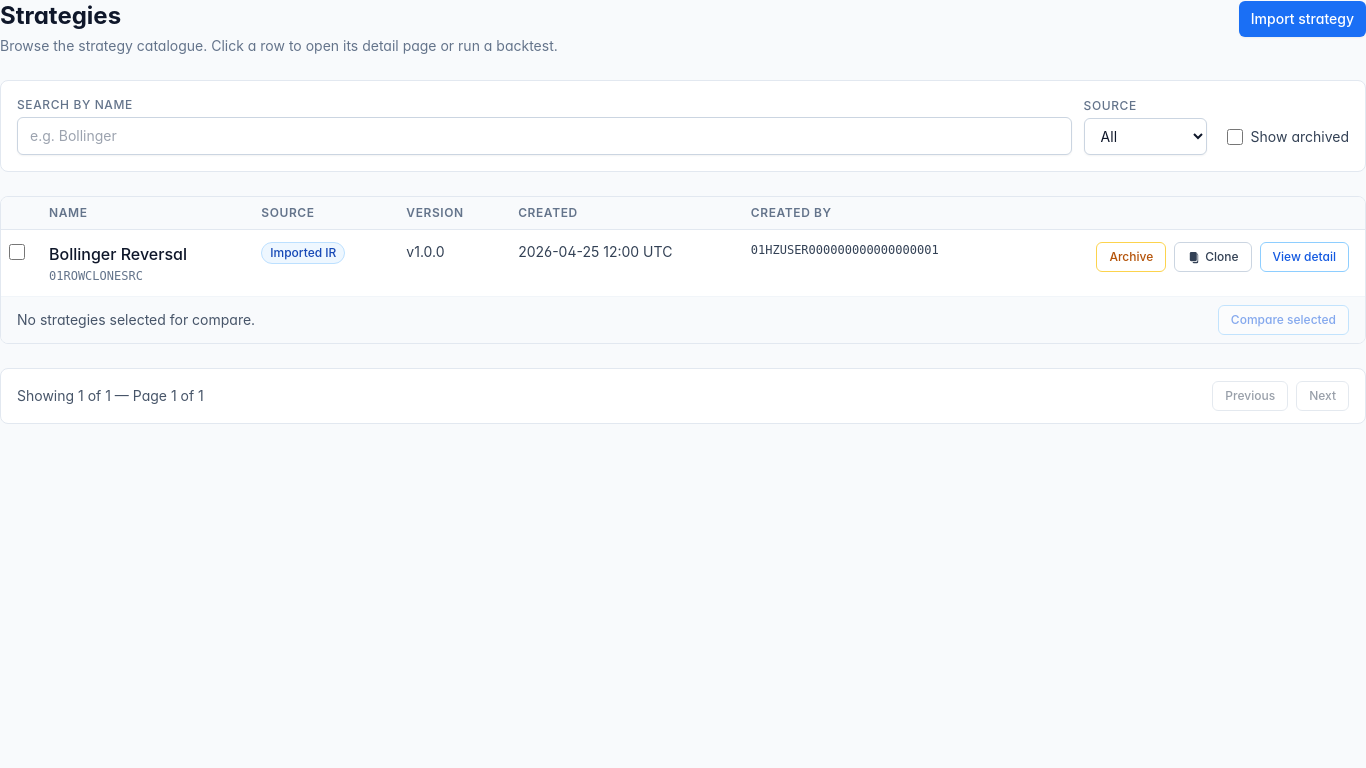
it: Strategies browse page › shows an inline error and stays open when cloneStrategy returns 409
expect the table with test id "strategies-table" is shown: met, box [1, 197, 1365, 296]
Click the button "Clone": [1213, 257] box [1174, 242, 1252, 272]
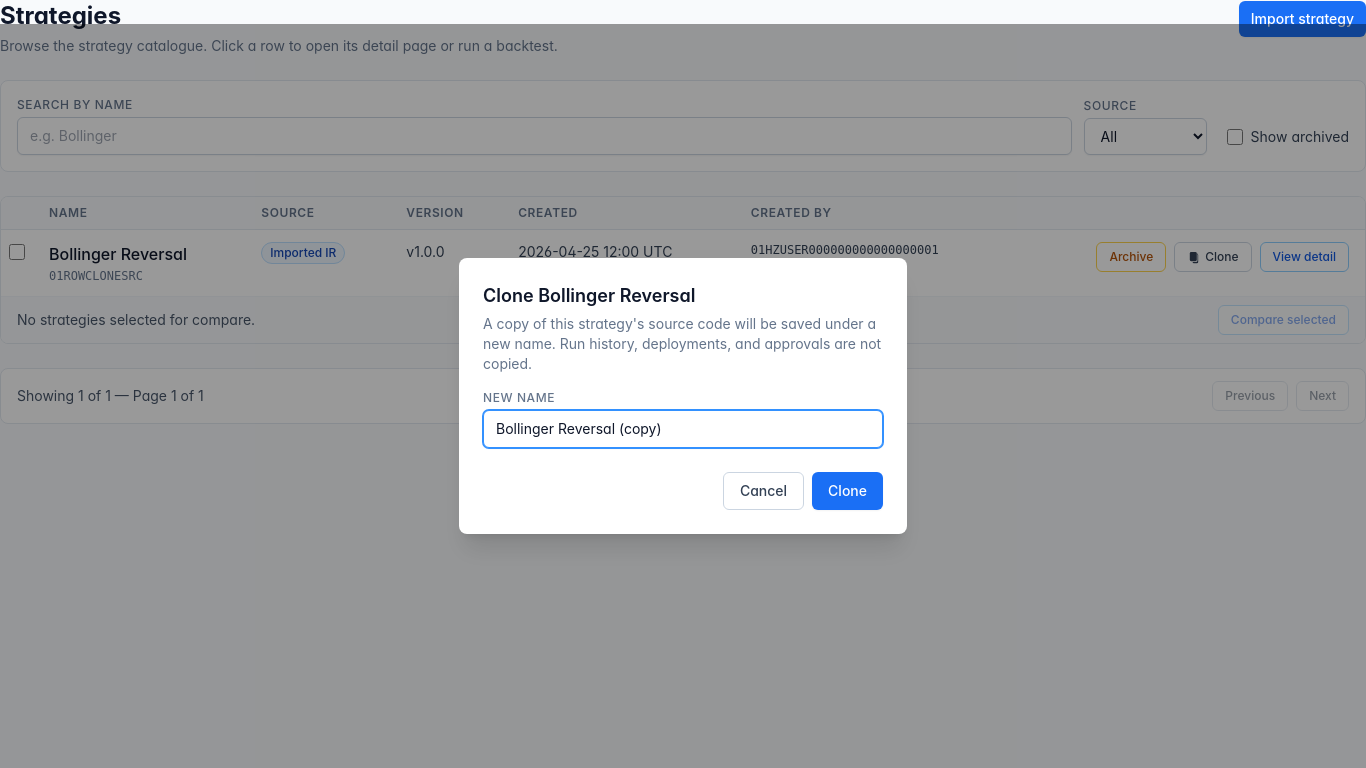
expect the dialog with test id "strategies-clone-modal" is shown: met
Click the button with test id "strategies-clone-submit": [848, 491] box [812, 472, 883, 510]
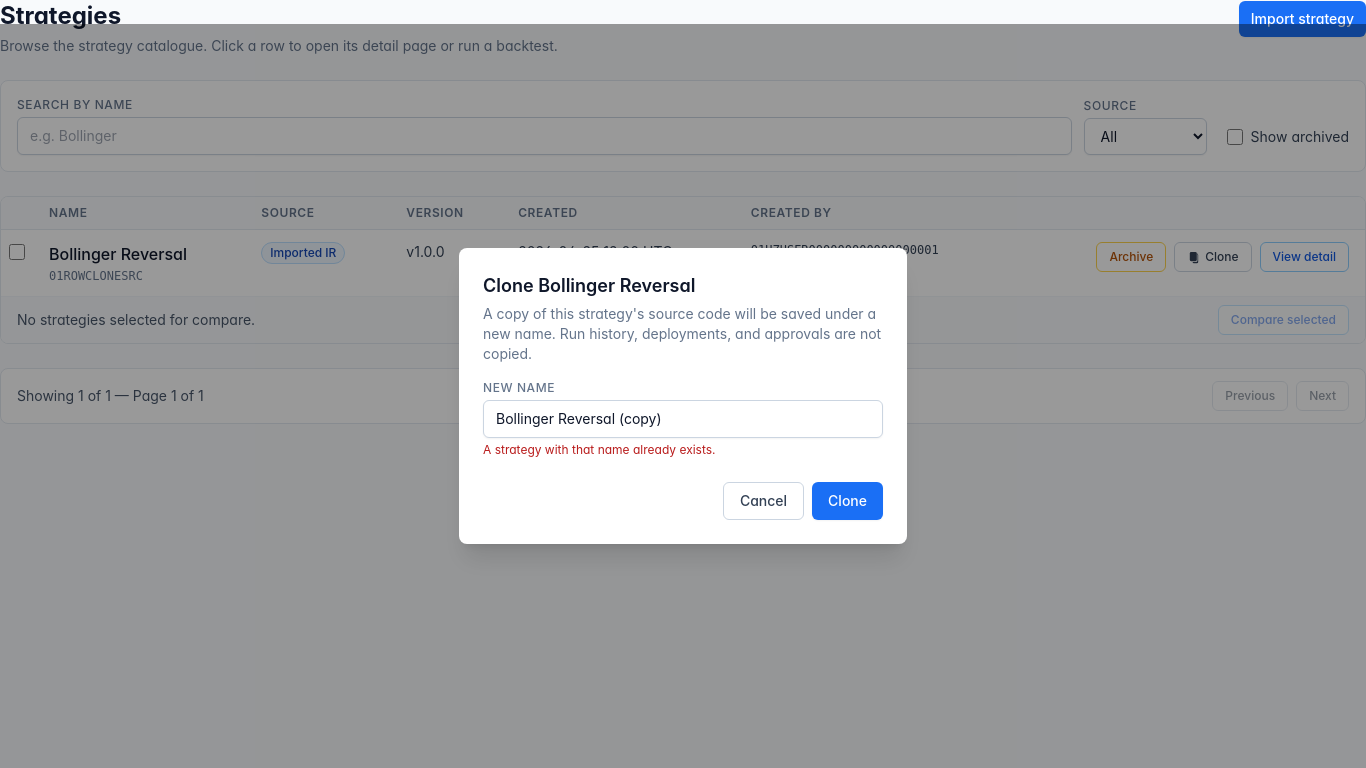
expect the dialog with test id "strategies-clone-modal" is shown: met
expect the message with test id "strategies-clone-name-error" shows "already exists": met, box [483, 442, 716, 457]
